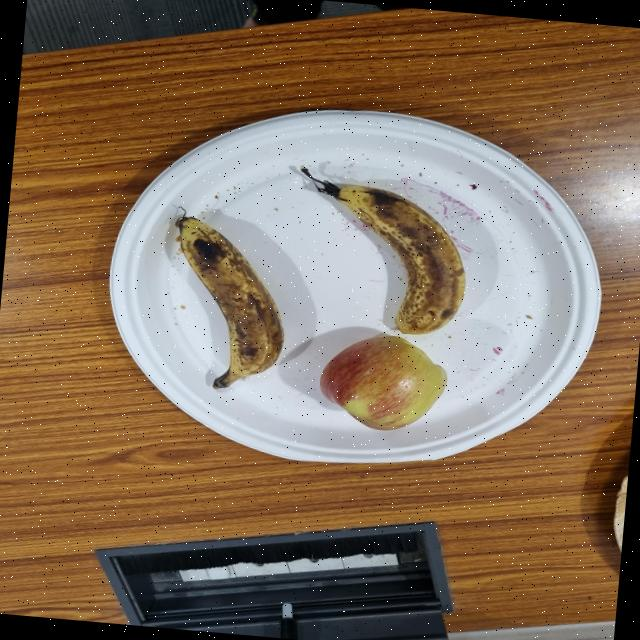apple: (279, 405, 410, 503)
banana: (408, 404, 629, 522), (327, 302, 555, 383)
